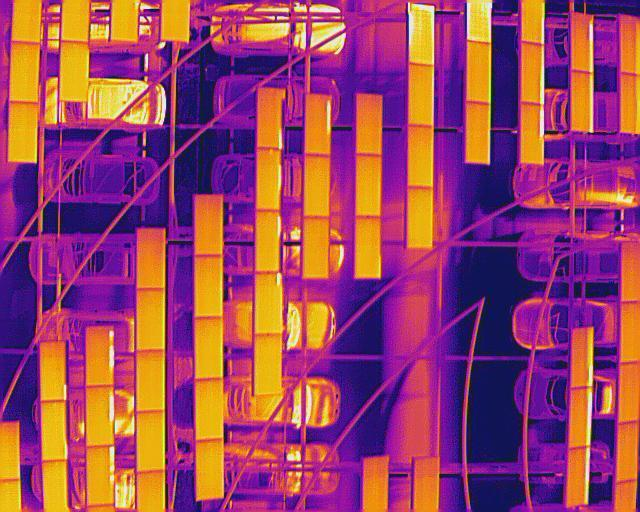Cell: (255, 272, 283, 333)
No-Anomaly: (7, 103, 37, 164), (195, 256, 224, 319), (355, 154, 383, 219), (135, 412, 165, 471), (136, 350, 165, 411), (195, 317, 223, 380), (406, 63, 434, 126), (11, 40, 38, 105), (256, 332, 283, 396), (136, 289, 164, 350), (195, 195, 223, 256), (196, 378, 223, 441), (406, 187, 433, 250), (58, 46, 88, 102), (354, 216, 381, 278), (407, 126, 434, 186), (197, 438, 223, 500), (362, 455, 390, 512), (303, 217, 329, 278), (356, 94, 382, 155), (305, 154, 330, 217), (138, 231, 165, 289), (465, 103, 490, 164), (467, 38, 491, 101), (40, 340, 64, 401), (618, 361, 640, 425), (413, 456, 438, 512), (616, 425, 640, 482), (42, 401, 64, 460), (43, 462, 68, 512)
Unclassified: (86, 327, 115, 386), (408, 4, 436, 65), (86, 387, 114, 447), (87, 445, 115, 504), (305, 94, 332, 155), (568, 15, 596, 73), (566, 446, 591, 508), (257, 148, 282, 209), (520, 104, 544, 167), (570, 70, 594, 133), (521, 39, 544, 104), (570, 327, 593, 390), (258, 213, 282, 273), (257, 89, 281, 148), (569, 387, 592, 448)
